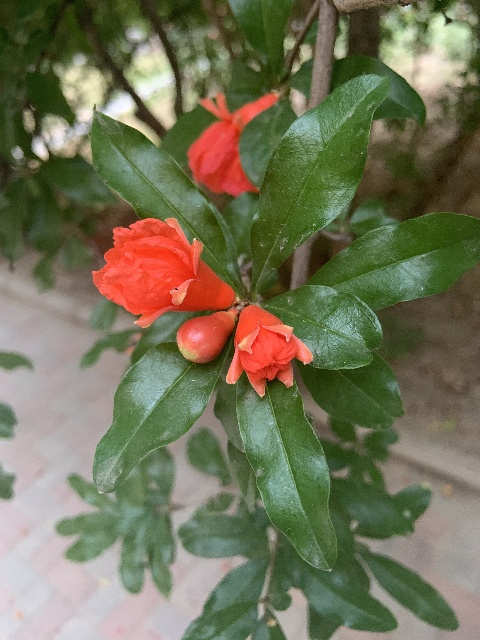bud: (176, 309, 235, 363)
flower: (92, 216, 234, 329), (187, 90, 277, 197), (228, 304, 312, 396)
